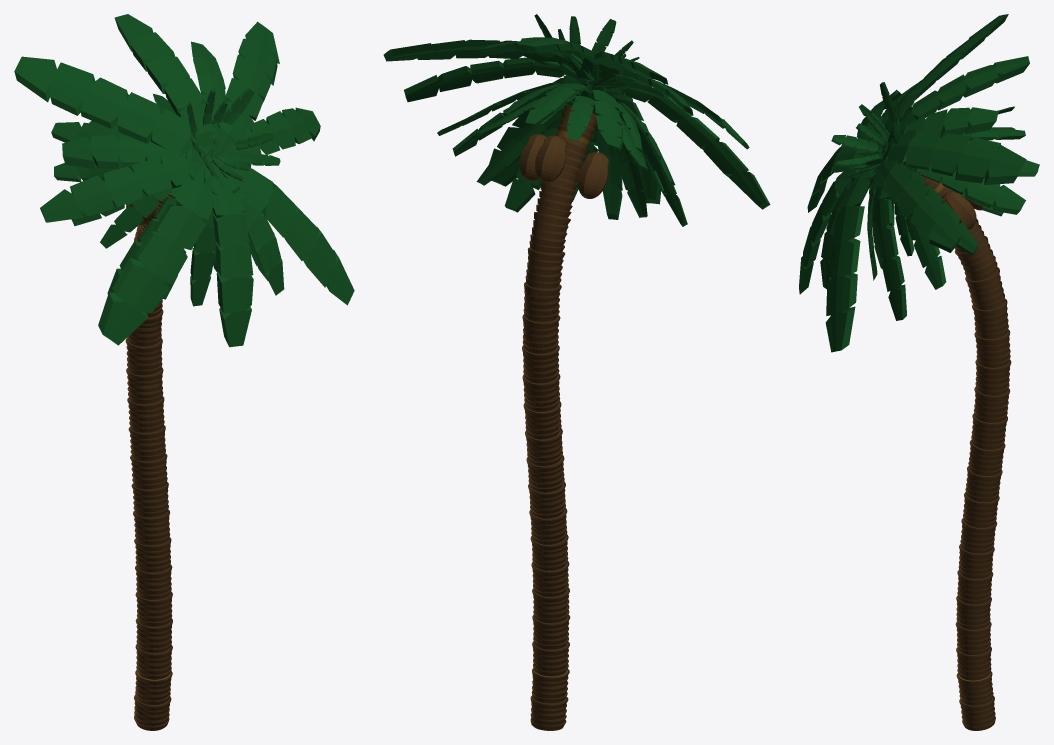
The model's file is Palm_new.fbx.
The picture shows the model from 3 angles, left to right: view 1: azimuth 30°, elevation 25°; view 2: azimuth 150°, elevation 25°; view 3: azimuth 270°, elevation 25°; orthographic projection. The views are drawn at different scales.
Visible parts, largest first — view 1: Cylinder.005, Cylinder.004; view 2: Cylinder.005, Cylinder.004; view 3: Cylinder.005, Cylinder.004.
Boxes of the visible parts, x1=… form: Cylinder.005: x1=14, y1=14, x2=354, y2=679; Cylinder.004: x1=134, y1=670, x2=172, y2=730; Cylinder.005: x1=383, y1=14, x2=770, y2=676; Cylinder.004: x1=530, y1=668, x2=569, y2=730; Cylinder.005: x1=799, y1=14, x2=1039, y2=680; Cylinder.004: x1=956, y1=671, x2=995, y2=730.
Bounding box in the file's own units: 1263 × 2722 × 894.
